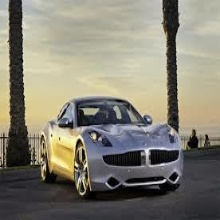no damage: (39, 97, 183, 195)
